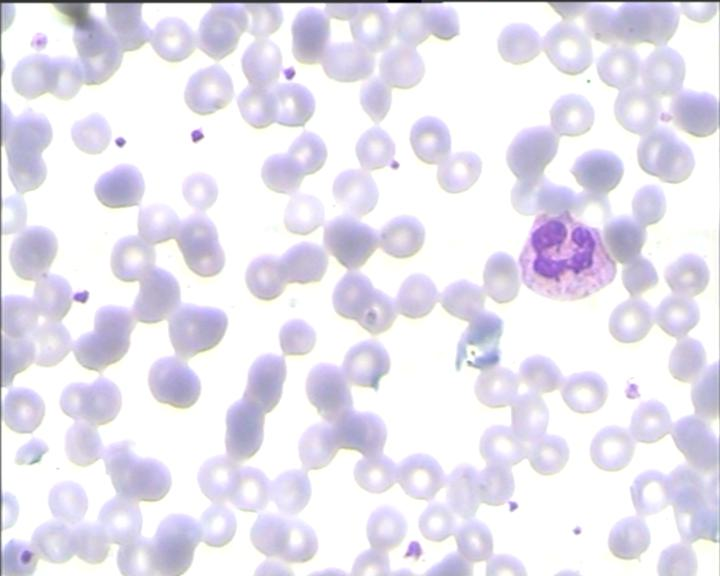neut: (512, 213, 618, 307)
